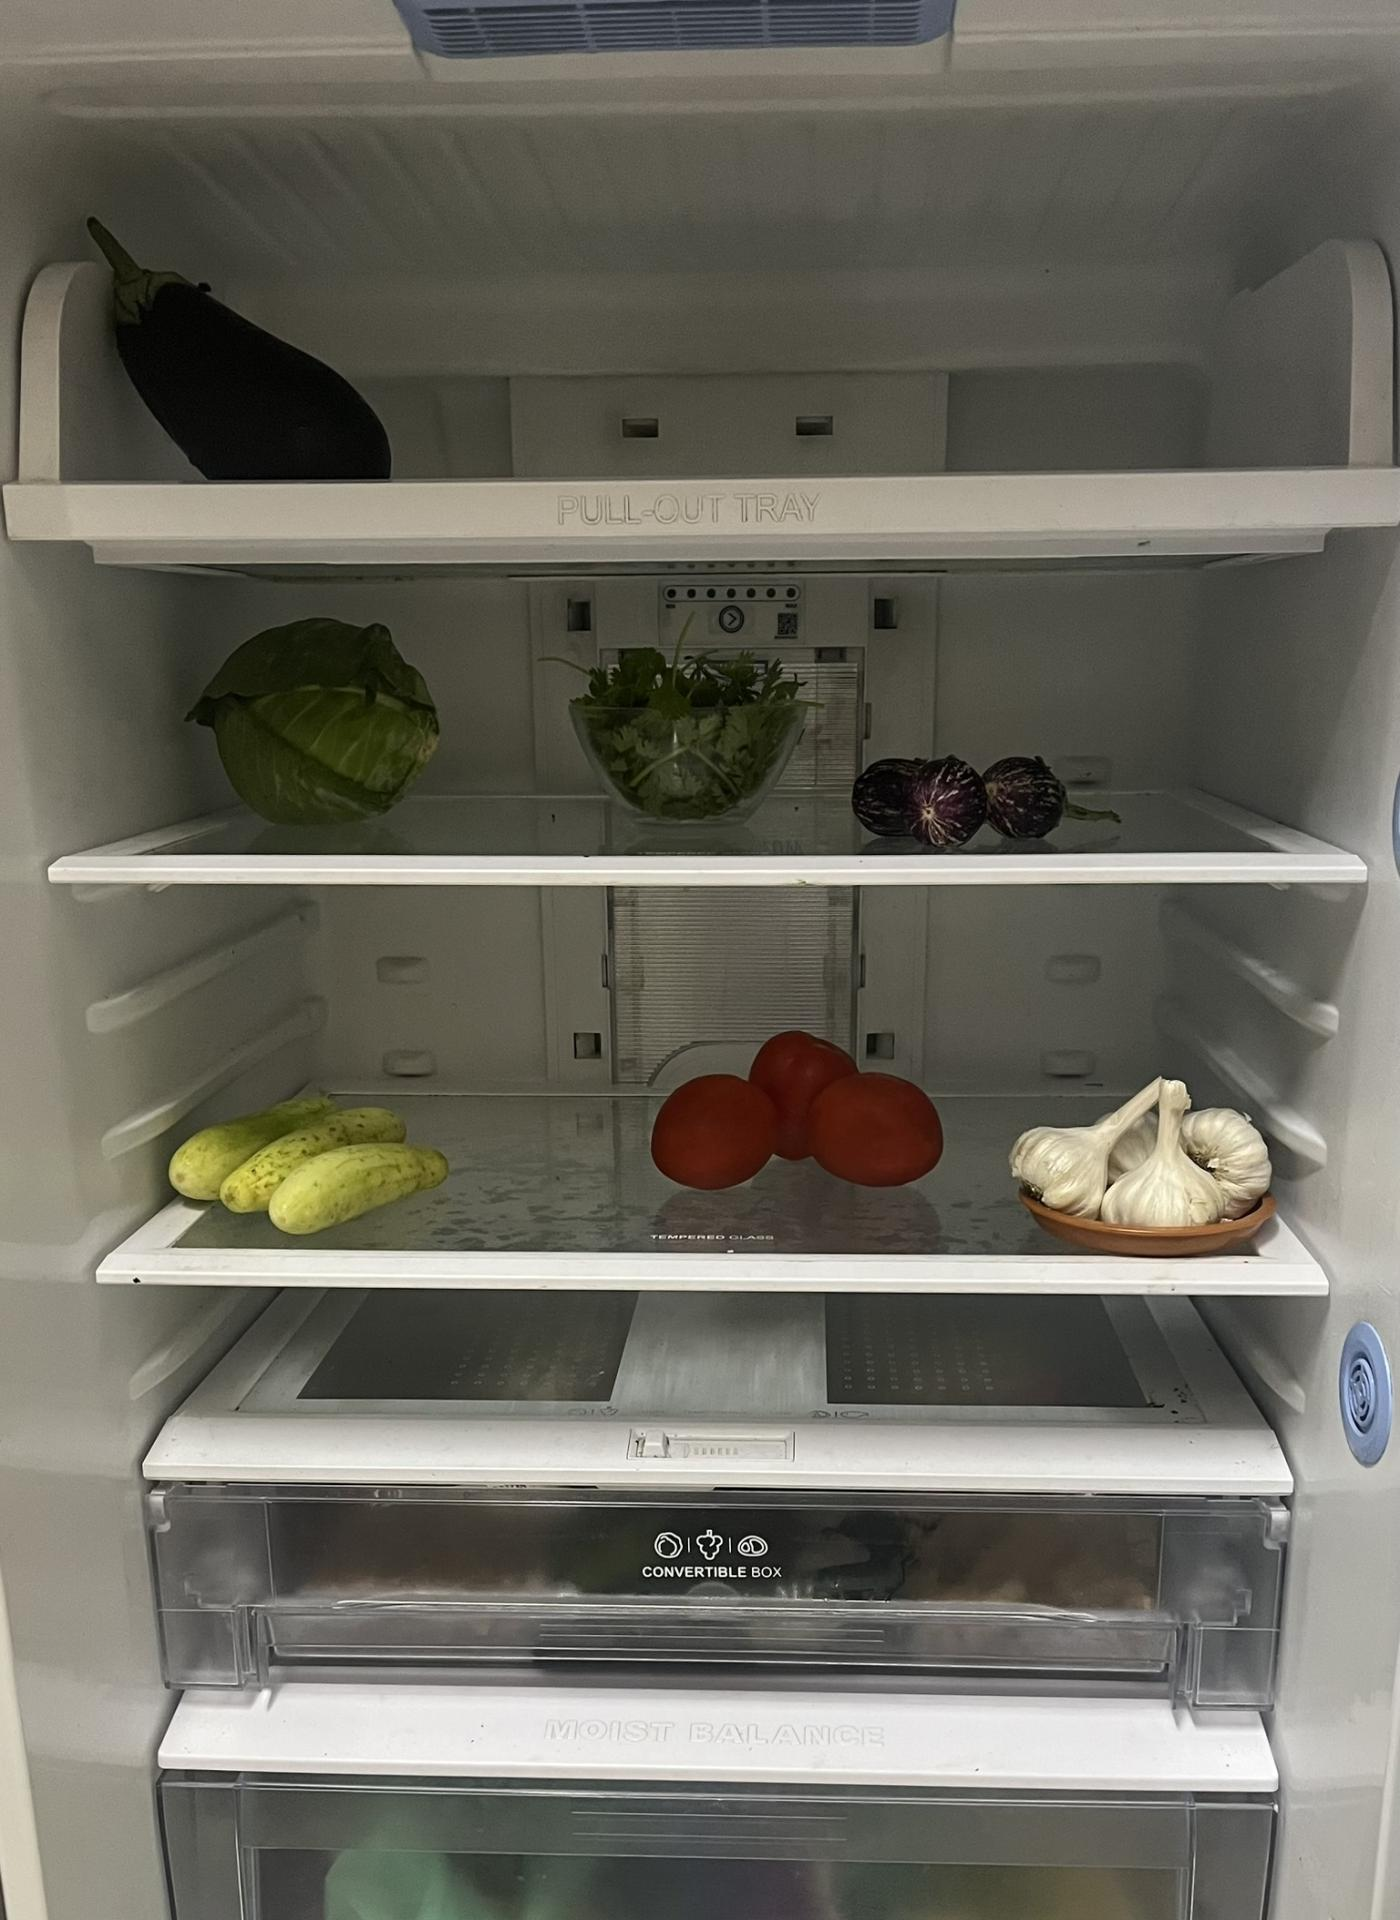brinjal: (81, 216, 394, 483), (850, 757, 1079, 838)
cabbage: (197, 616, 437, 818)
coriander: (564, 651, 792, 821)
cucumber: (168, 1085, 444, 1224)
tomato: (658, 1027, 944, 1185), (1018, 1063, 1278, 1233)
